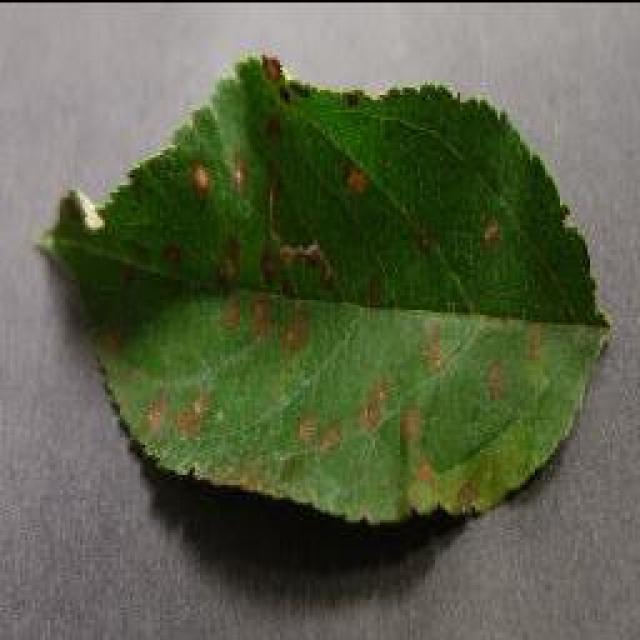apple scab disease: (35, 50, 613, 530)
